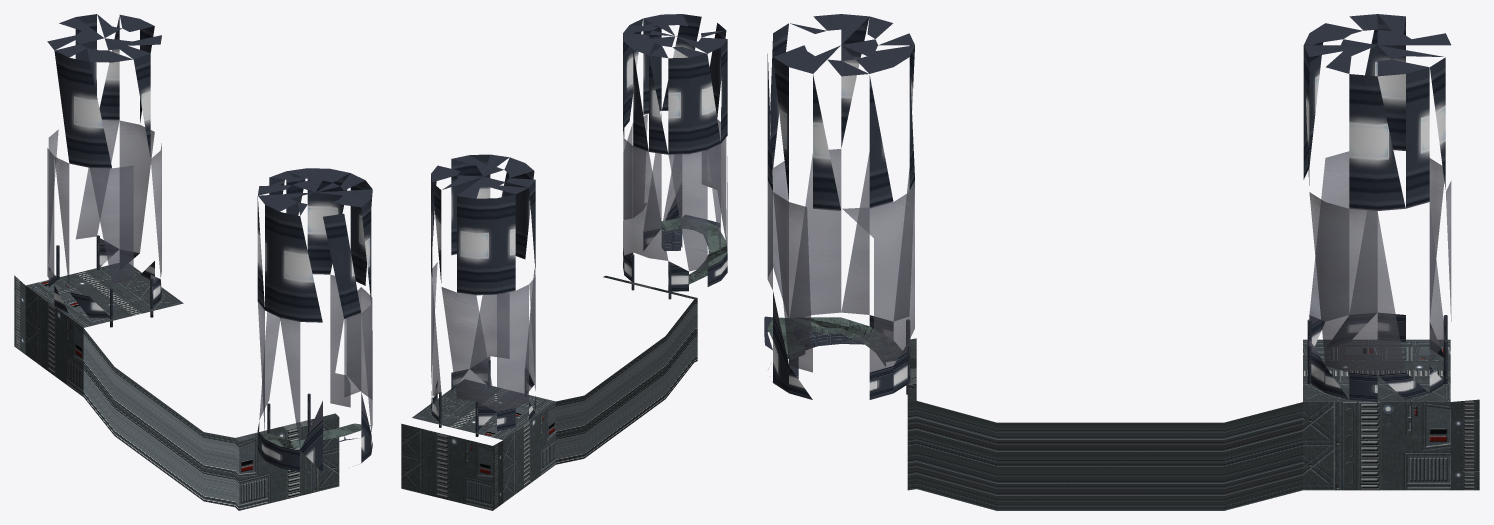
Rendered from bldg_lab_tunnels.gltf.
3 renders of one model, left to right at view 1: azimuth 30°, elevation 25°; view 2: azimuth 150°, elevation 25°; view 3: azimuth 270°, elevation 25°, orthographic. The views are drawn at different scales.
Parts seen in each view (by area): view 1: cube10, tube3, tube, spiral_ramp; view 2: tube3, cube10, tube, spiral_ramp, tube_floor1; view 3: cube10, tube, tube3, spiral_ramp, tube_floor1.
Part boxes in pixels (x1,y1,x2,y2): cube10: (14,263,339,510); tube3: (257,168,372,472); tube: (47,14,161,318); spiral_ramp: (261,423,370,447); tube3: (623,14,727,291); cube10: (401,275,697,510); tube: (431,154,535,431); spiral_ramp: (661,217,727,284); tube_floor1: (661,215,719,250); cube10: (907,338,1479,510); tube: (1303,14,1451,402); tube3: (767,14,914,399); spiral_ramp: (767,317,902,366); tube_floor1: (764,316,895,378).
Size of the model in its own units: 11.02 by 35.74 by 53.89.
9 materials, 9 textured.
